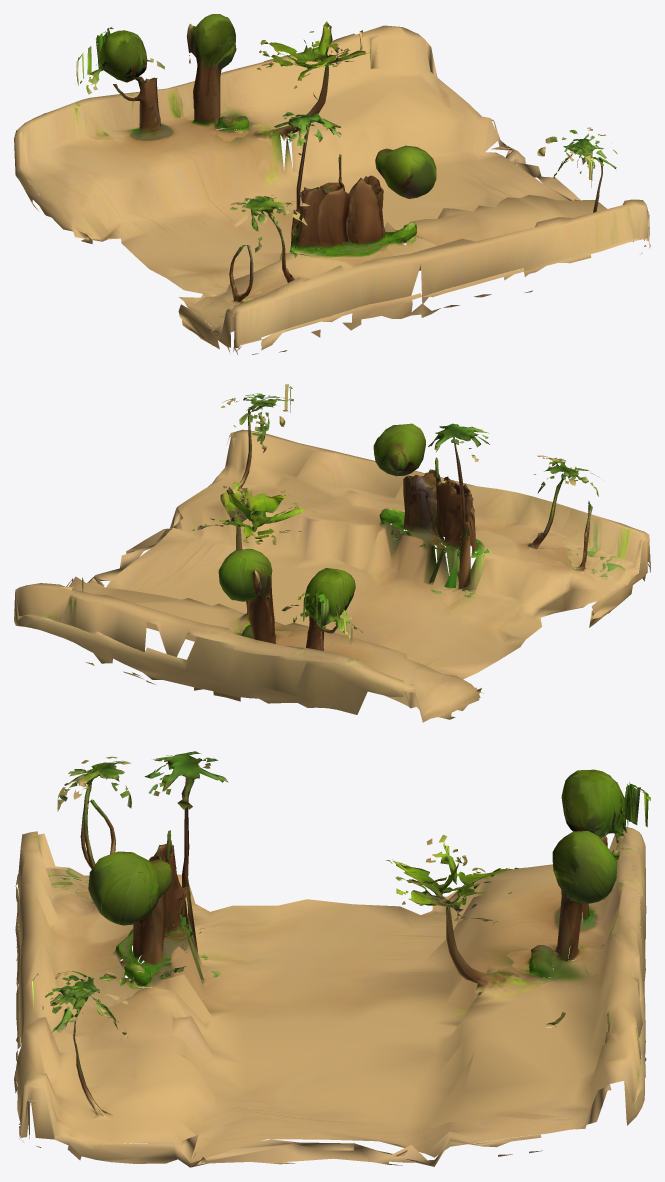
The model's file is floor.glb.
The picture shows the model from 3 angles, top to bottom: view 1: azimuth 30°, elevation 25°; view 2: azimuth 150°, elevation 25°; view 3: azimuth 270°, elevation 25°; orthographic projection. The views are drawn at different scales.
Parts seen in each view (by area): view 1: Mesh_0; view 2: Mesh_0; view 3: Mesh_0.
Part boxes in pixels (<box>): Mesh_0: <box>14,14,650,354</box>; Mesh_0: <box>14,384,650,722</box>; Mesh_0: <box>14,751,650,1167</box>.
Size of the model in its own units: 2.01 by 0.7835 by 1.98.
1 material, 1 textured.
